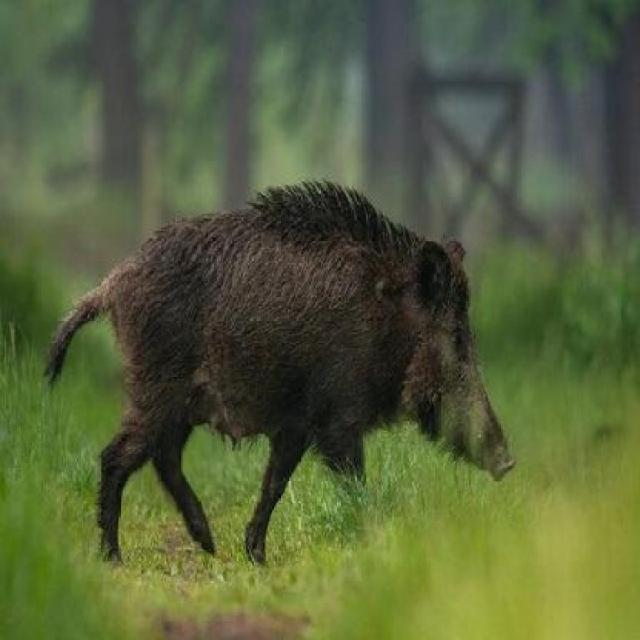wildboar: (37, 170, 512, 570)
